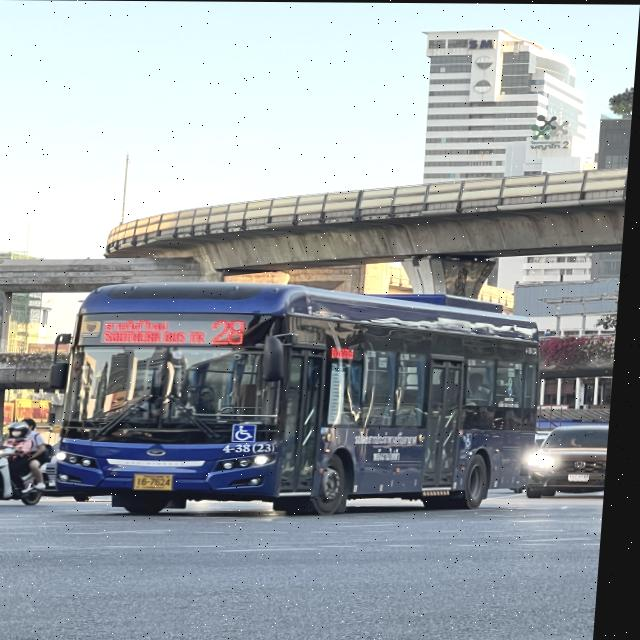Bus-Line-Number: (212, 317, 254, 346)
Destination-Sign-Normal: (103, 318, 214, 349)
TSB-Bus: (56, 280, 552, 518)
